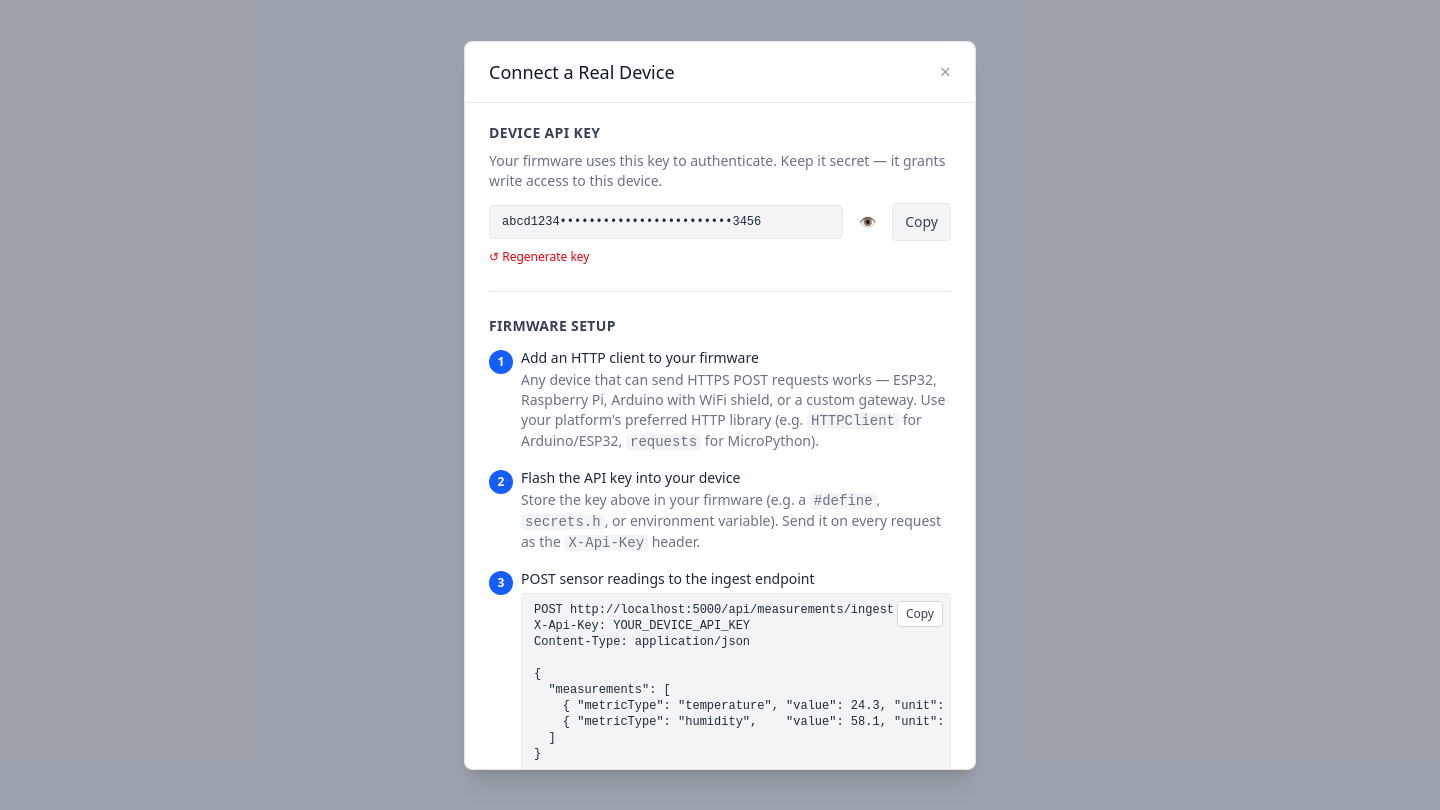
Scenario: ConnectDeviceModal › shows "✓ Copied" after copying the key
The width and height of the screenshot is (1440, 810).
Click the button titled "Copy key" next to "abcd1234••••••••••••••••••••••••3456": (922, 222) x1=892 y1=202 x2=951 y2=240
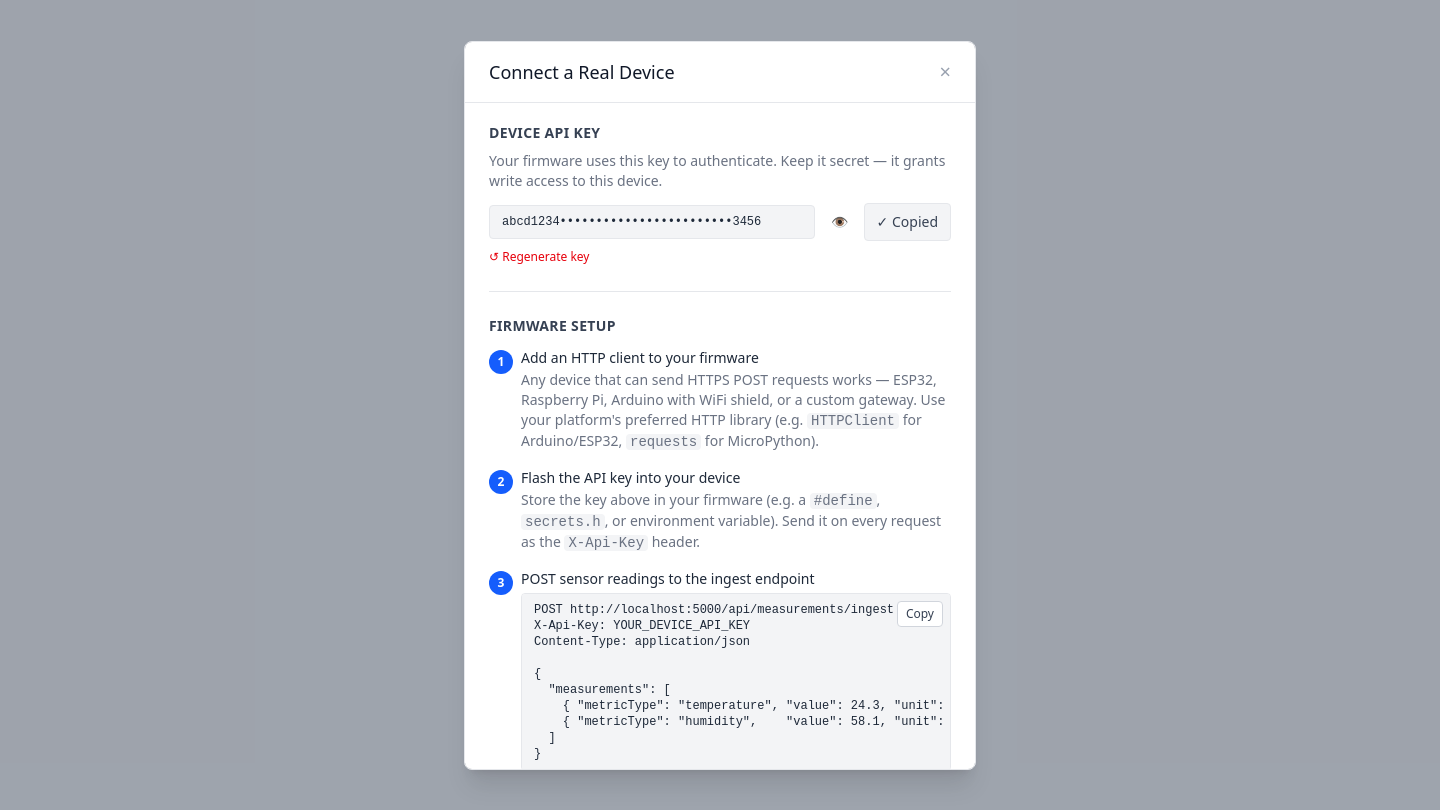
Now the button titled "Copy key" reads "✓ Copied", box x1=864 y1=202 x2=951 y2=240
